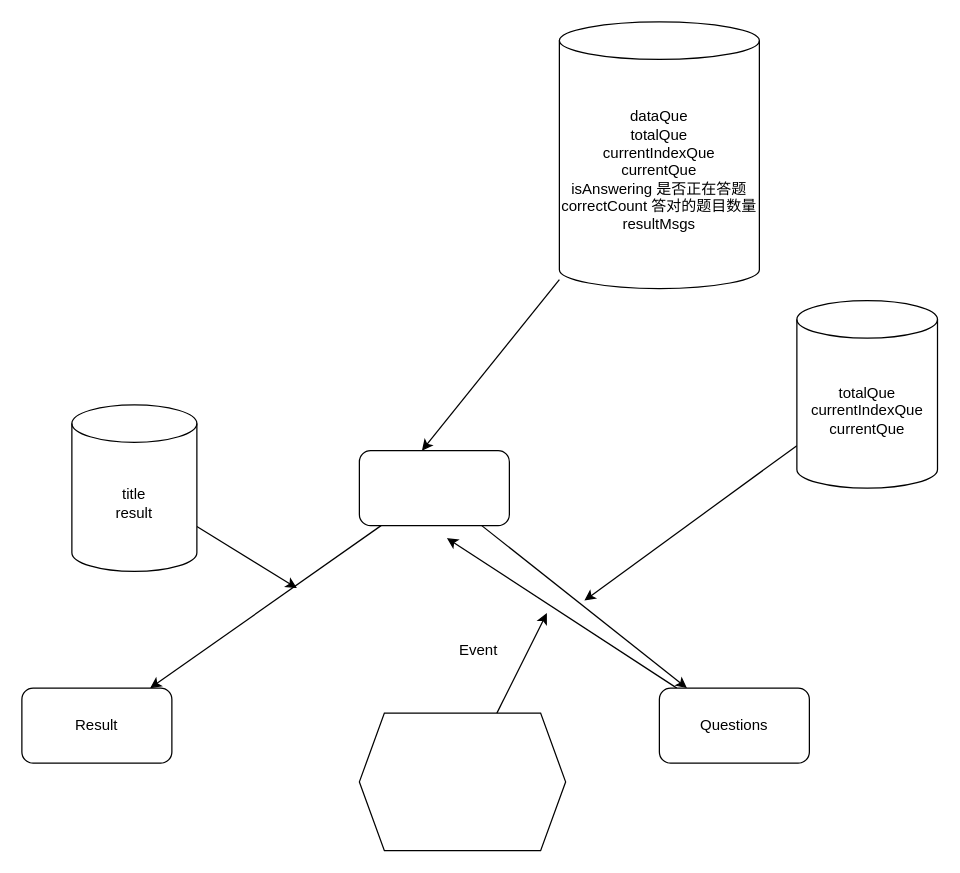
Some shapes in this 960 by 873 pixel diagram are drawn without their labels. Here are the shapes that lost their labels. From the top down, the box of each, then its label:
(358, 449, 509, 526): App
(358, 712, 566, 851): answer-question(itemQue)
